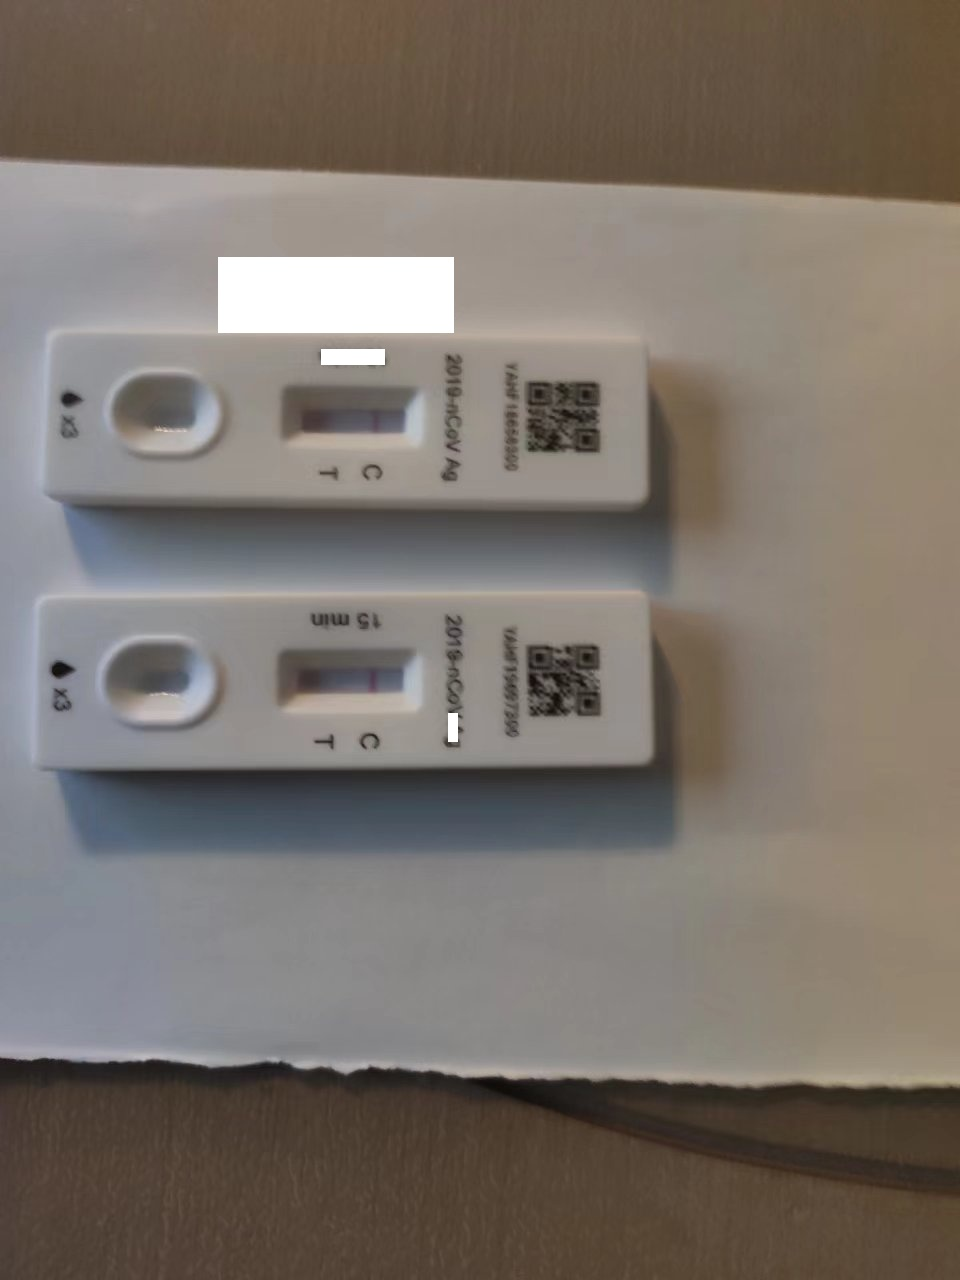negative: (275, 647, 427, 712), (280, 383, 427, 447)
